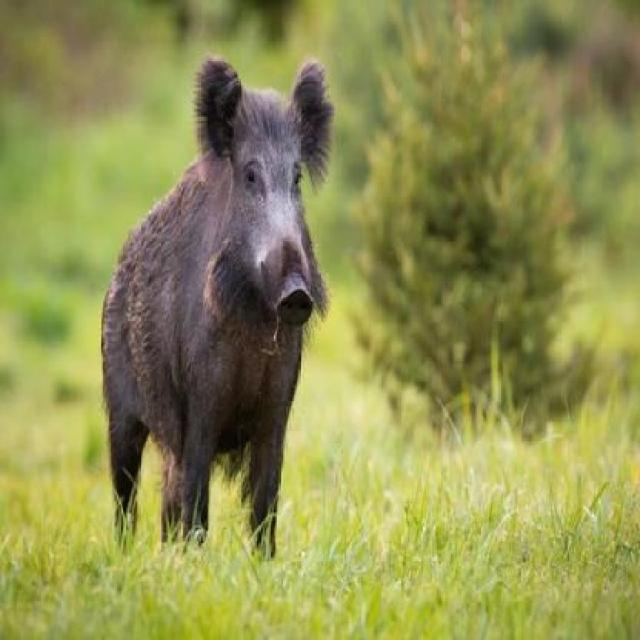wildboar: (94, 49, 343, 562)
